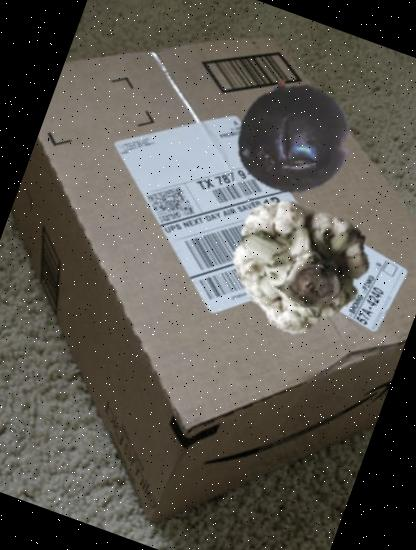Cauliflower: (210, 168, 388, 346)
Passion: (216, 60, 367, 211)
